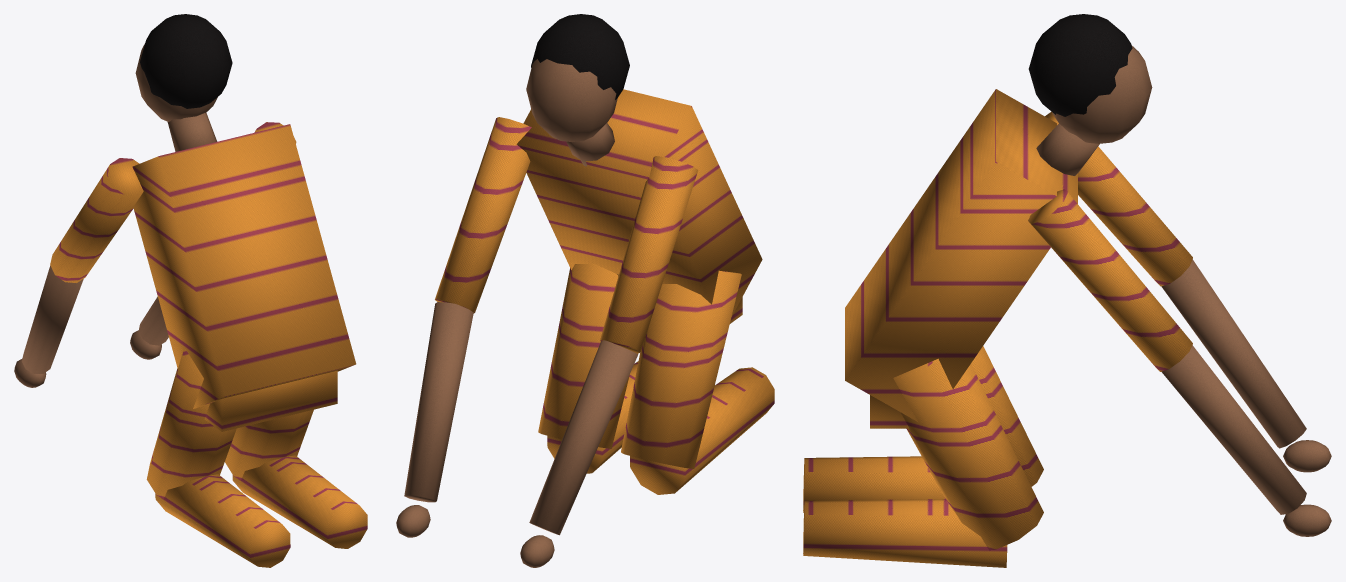
File: persona_agachada_b.obj
The picture shows the model from 3 angles, left to right: view 1: azimuth 30°, elevation 25°; view 2: azimuth 150°, elevation 25°; view 3: azimuth 270°, elevation 25°; orthographic projection. The views are drawn at different scales.
Parts seen in each view (by area): view 1: persona_agachada_b; view 2: persona_agachada_b; view 3: persona_agachada_b.
Part boxes in pixels (x1,y1,x2,y2): persona_agachada_b: (14, 14, 367, 567); persona_agachada_b: (396, 14, 774, 567); persona_agachada_b: (803, 14, 1331, 567).
Bounding box in the file's own units: 0.4856 × 1.14 × 1.04.
Materials: 3 (3 with a texture image).
